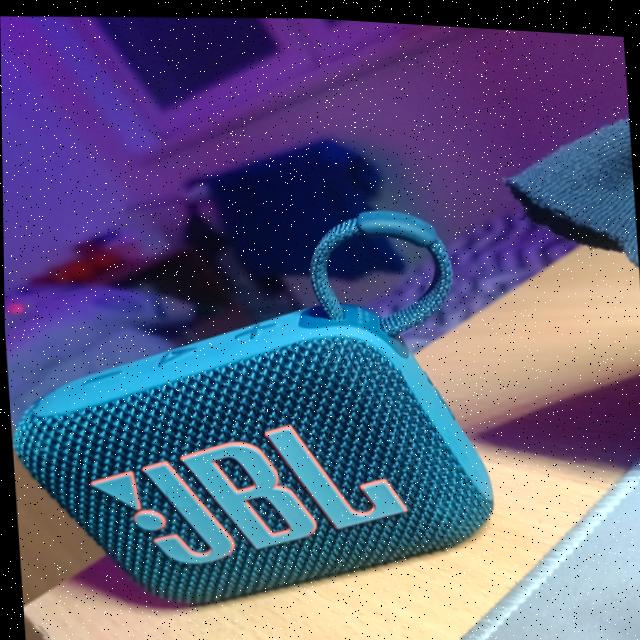column JBL: (2, 179, 501, 596)
